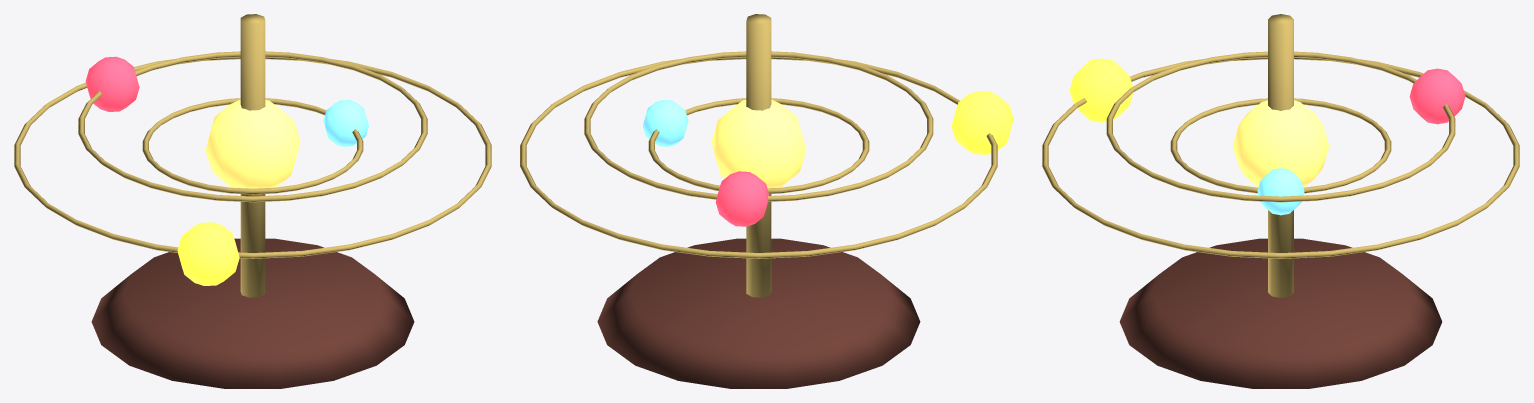
The model's file is science_orrery.glb.
3 renders of one model, left to right at view 1: azimuth 30°, elevation 25°; view 2: azimuth 150°, elevation 25°; view 3: azimuth 270°, elevation 25°, orthographic.
Visible parts, largest first — view 1: GD_science_orrery__m0, GD_science_orrery__m1, GD_science_orrery__m2, GD_science_orrery__m5, GD_science_orrery__m4, GD_science_orrery__m3; view 2: GD_science_orrery__m0, GD_science_orrery__m1, GD_science_orrery__m2, GD_science_orrery__m5, GD_science_orrery__m4, GD_science_orrery__m3; view 3: GD_science_orrery__m0, GD_science_orrery__m1, GD_science_orrery__m2, GD_science_orrery__m5, GD_science_orrery__m4, GD_science_orrery__m3.
Boxes of the visible parts, <box> form: GD_science_orrery__m0: <box>91,238,414,388</box>; GD_science_orrery__m1: <box>14,14,491,297</box>; GD_science_orrery__m2: <box>205,99,300,188</box>; GD_science_orrery__m5: <box>177,222,239,285</box>; GD_science_orrery__m4: <box>85,56,139,111</box>; GD_science_orrery__m3: <box>323,100,368,146</box>; GD_science_orrery__m0: <box>597,238,920,388</box>; GD_science_orrery__m1: <box>520,14,997,297</box>; GD_science_orrery__m2: <box>711,99,806,188</box>; GD_science_orrery__m5: <box>951,91,1013,154</box>; GD_science_orrery__m4: <box>715,171,769,226</box>; GD_science_orrery__m3: <box>643,100,688,146</box>; GD_science_orrery__m0: <box>1119,238,1442,388</box>; GD_science_orrery__m1: <box>1042,14,1519,297</box>; GD_science_orrery__m2: <box>1232,100,1329,187</box>; GD_science_orrery__m5: <box>1069,58,1133,122</box>; GD_science_orrery__m4: <box>1409,68,1465,124</box>; GD_science_orrery__m3: <box>1257,168,1304,215</box>.
Size of the model in its own units: 0.446 by 0.31 by 0.4436.
